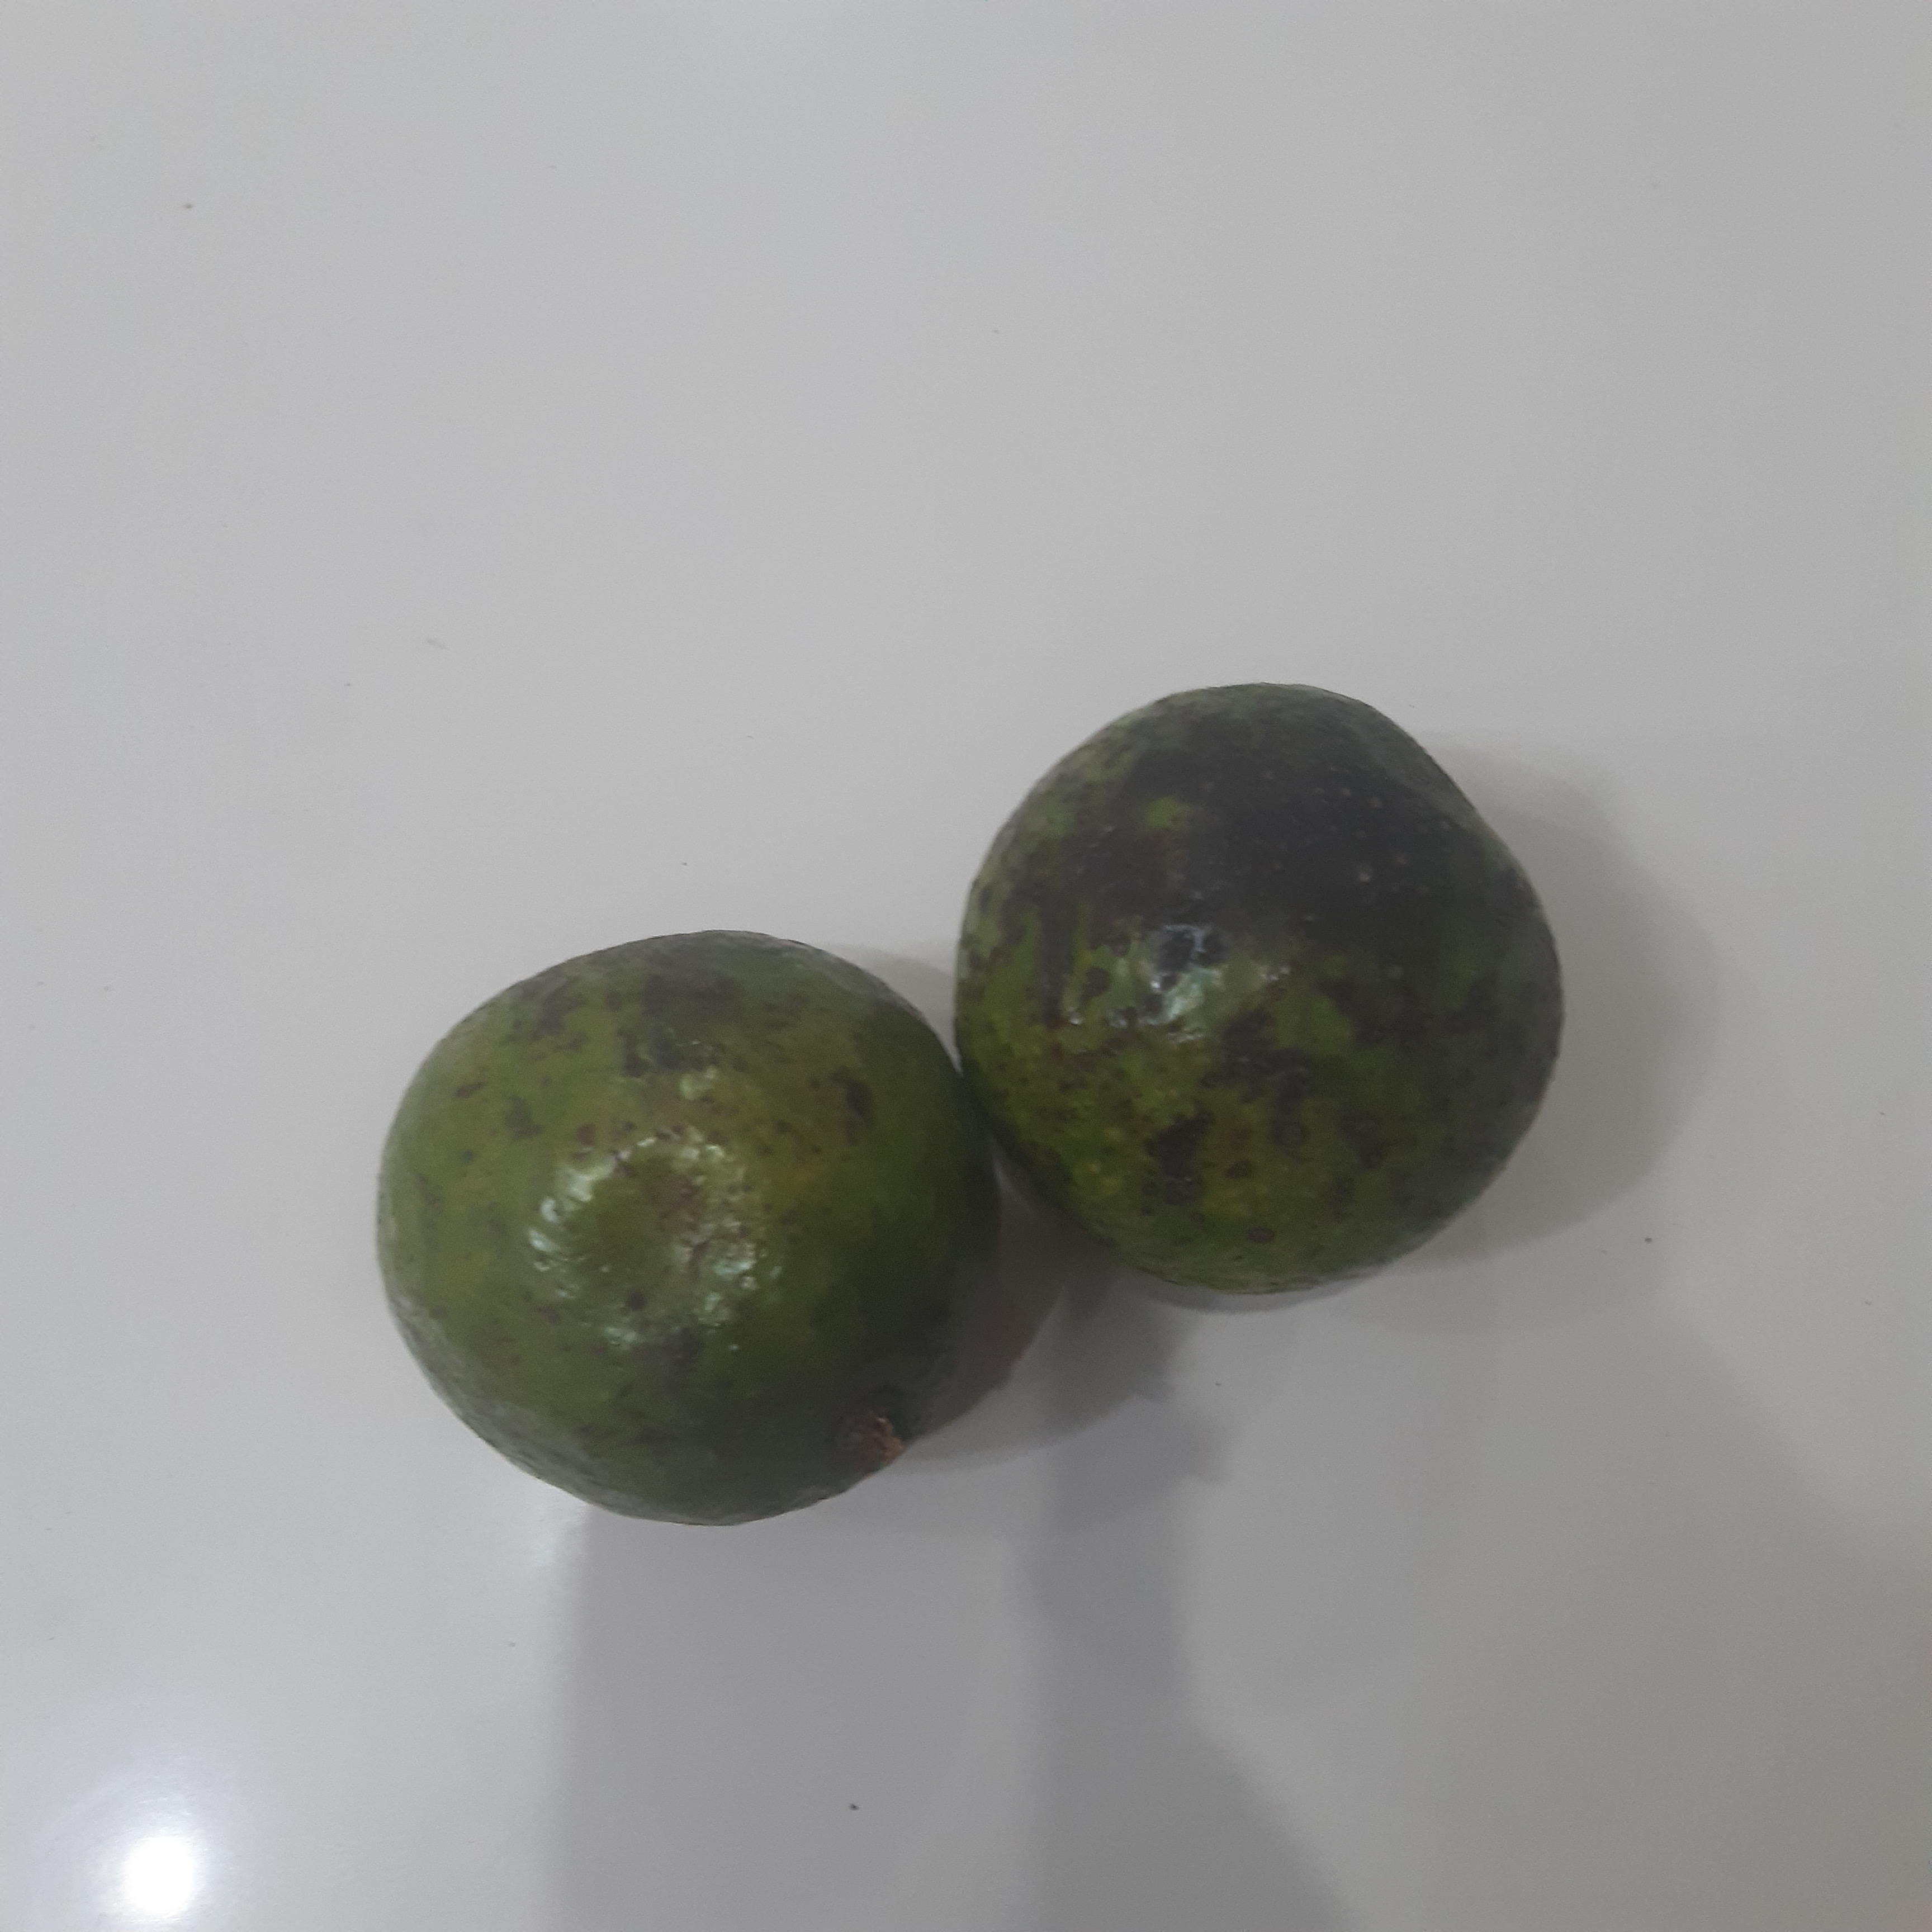Bo: (947, 681, 1570, 1296), (381, 927, 998, 1520)
